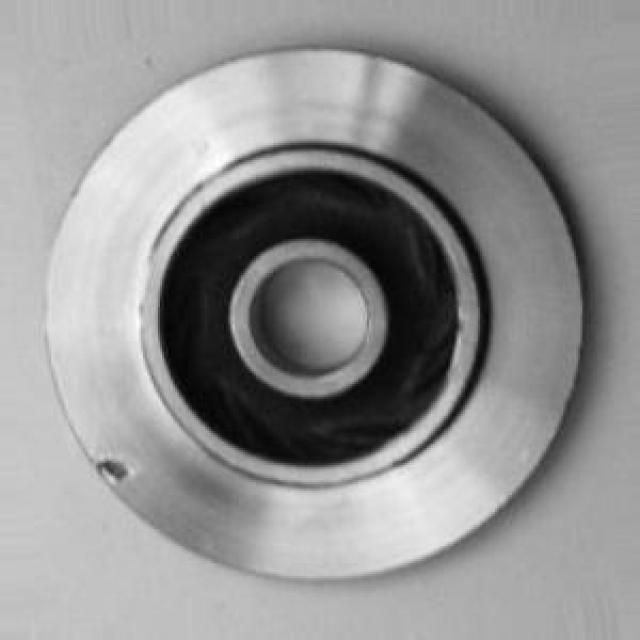Defect: (96, 448, 133, 490)
